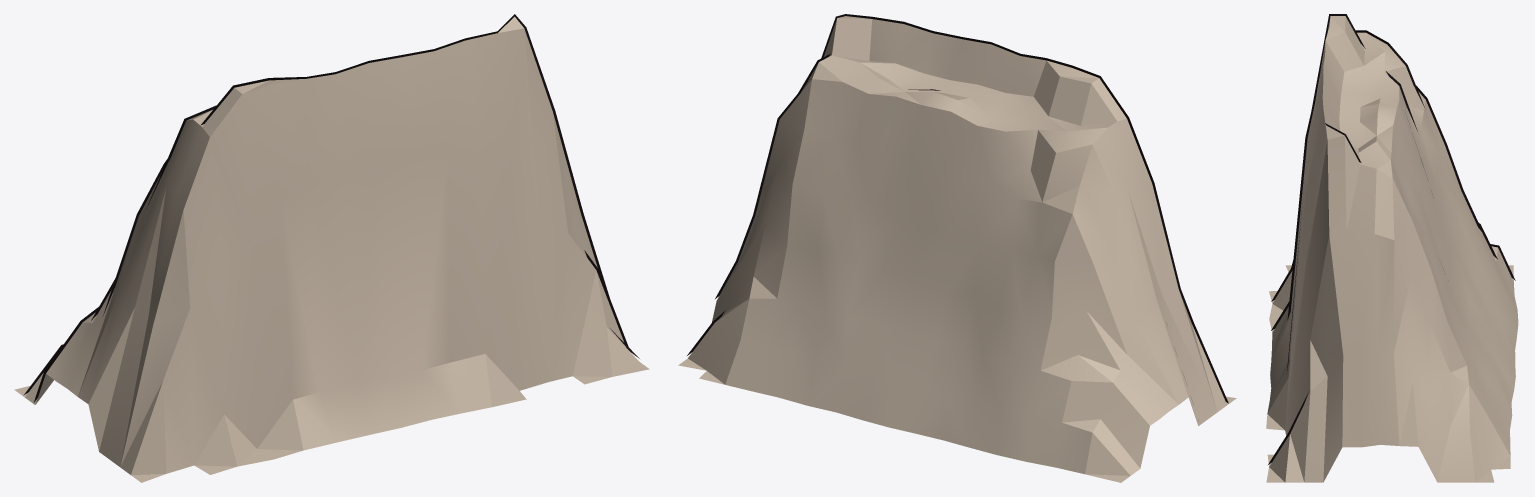
Rendered from SM_Cliff_02.fbx.
3 renders of one model, left to right at view 1: azimuth 30°, elevation 25°; view 2: azimuth 150°, elevation 25°; view 3: azimuth 270°, elevation 25°, orthographic. The views are drawn at different scales.
Parts seen in each view (by area): view 1: SM_Cliff_02; view 2: SM_Cliff_02; view 3: SM_Cliff_02.
Boxes of the visible parts, x1,y1,x2,y2 form: SM_Cliff_02: (14, 14, 649, 482); SM_Cliff_02: (678, 14, 1236, 482); SM_Cliff_02: (1266, 14, 1518, 482).
Bounding box in the file's own units: 11.09 × 7.31 × 5.45.
